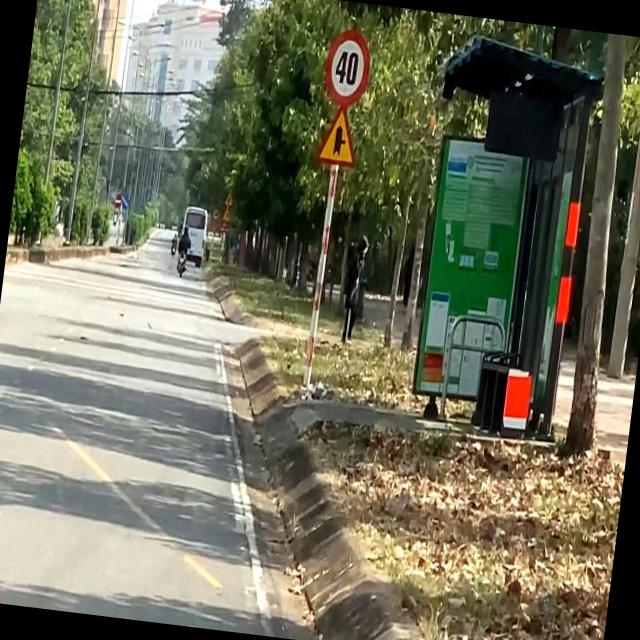P-127: (320, 24, 376, 109)
W-207b: (316, 104, 360, 168)
